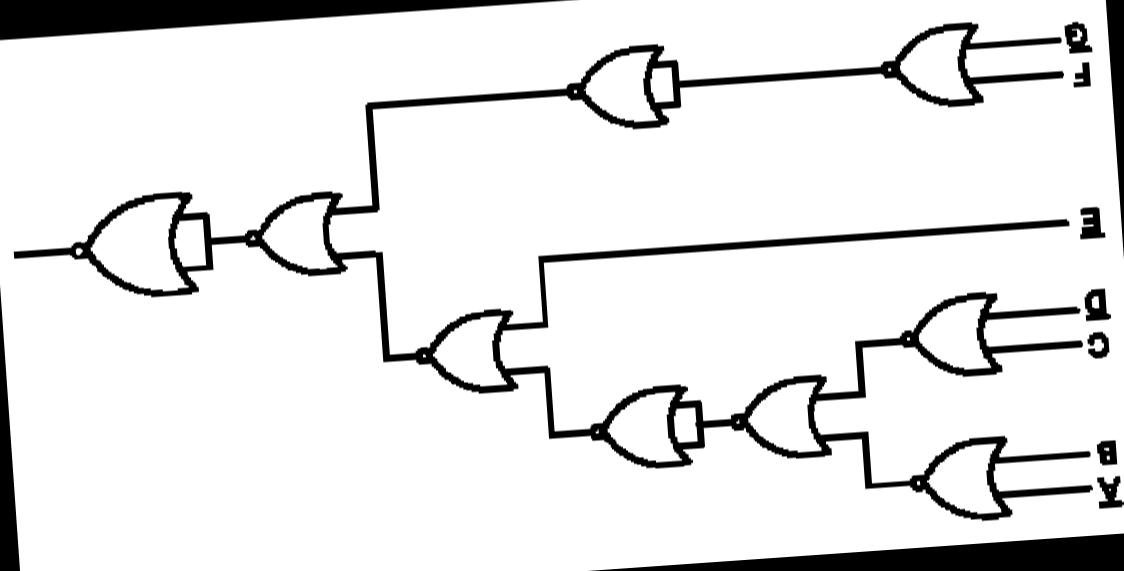nor: (52, 168, 207, 320), (844, 5, 1002, 128), (221, 166, 363, 295), (394, 286, 534, 415), (875, 272, 1022, 388), (532, 21, 672, 142), (886, 416, 1026, 534), (718, 359, 846, 474), (572, 375, 697, 482)
